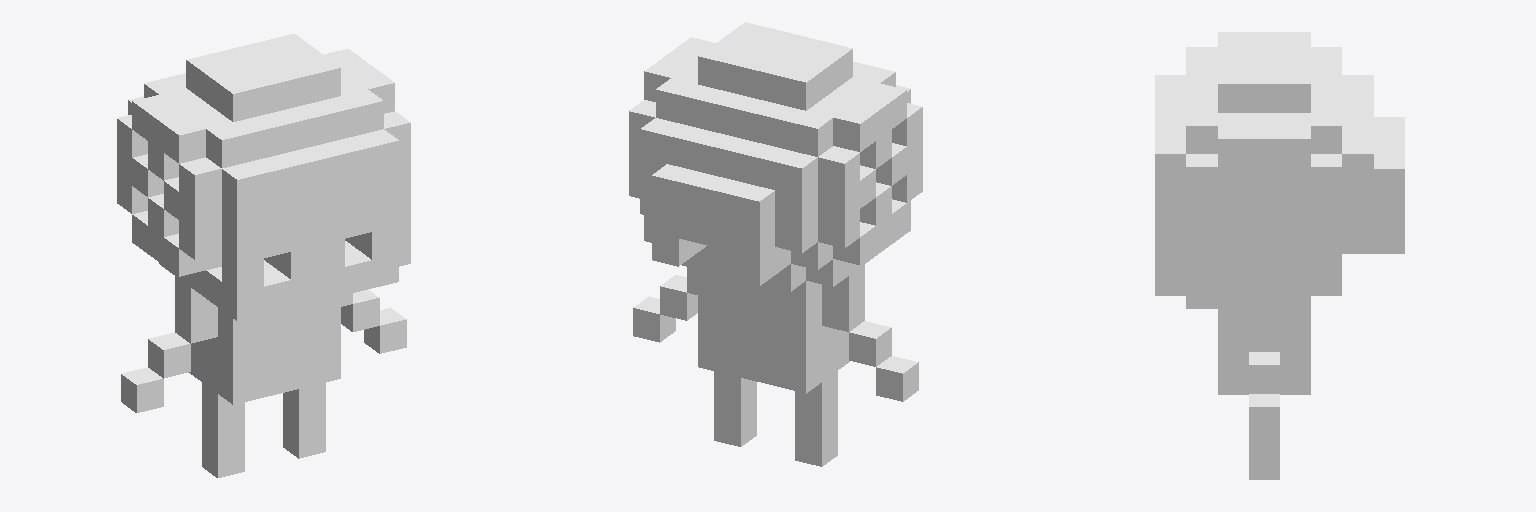
File: ArmoredCharacter.obj
3 views of the same model, side by side, from view 1: azimuth 30°, elevation 25°; view 2: azimuth 150°, elevation 25°; view 3: azimuth 270°, elevation 25° (orthographic).
Bounding box in the file's own units: 20 × 28 × 16.